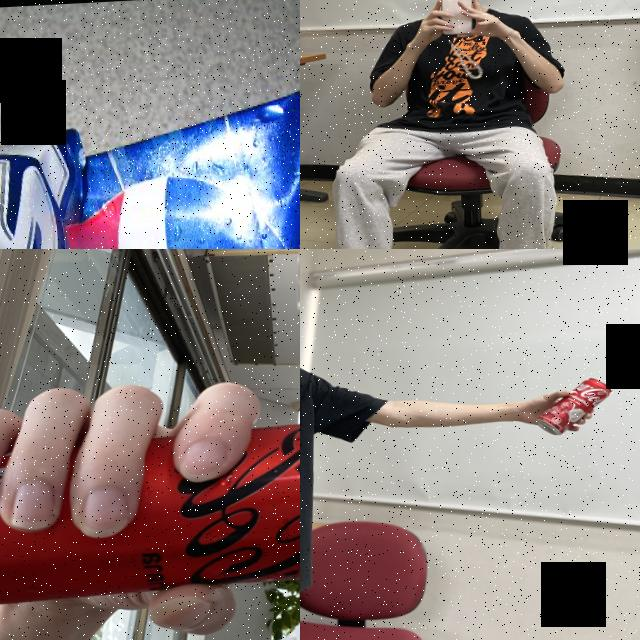can: (0, 414, 300, 617), (533, 376, 614, 438)
